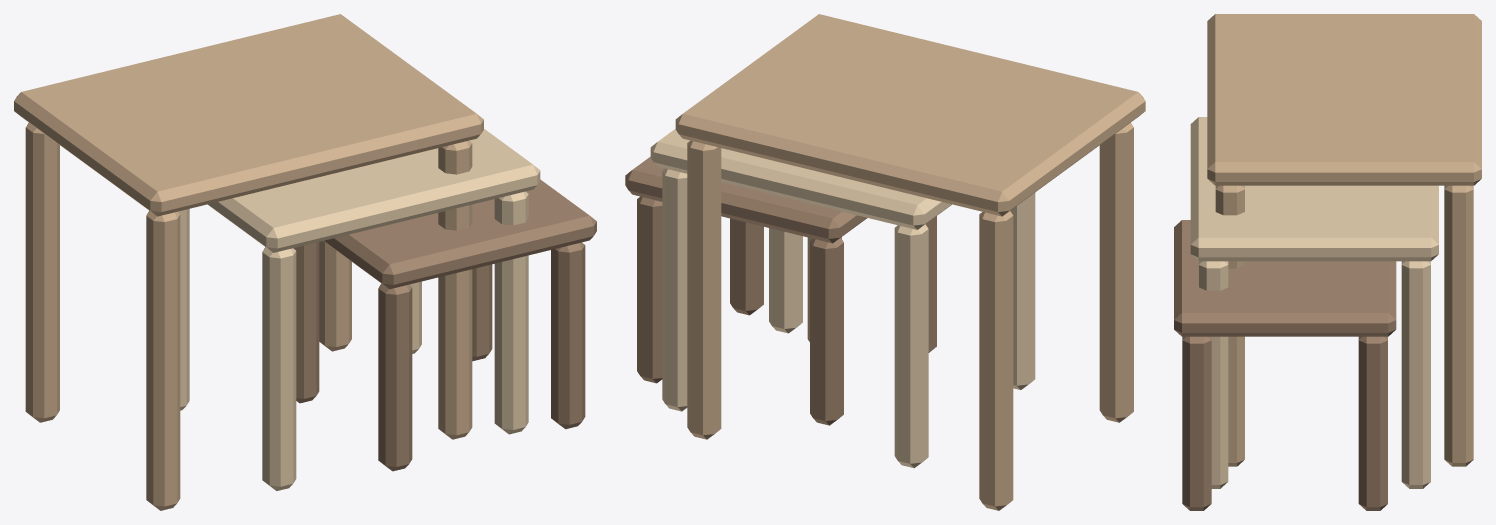
Rendered from NestingTables_Set3.glb.
3 renders of one model, left to right at view 1: azimuth 30°, elevation 25°; view 2: azimuth 150°, elevation 25°; view 3: azimuth 270°, elevation 25°, orthographic. The views are drawn at different scales.
Visible parts, largest first — view 1: SpaceSaver_NestingTables_Set3; view 2: SpaceSaver_NestingTables_Set3; view 3: SpaceSaver_NestingTables_Set3.
Boxes of the visible parts, x1,y1,x2,y2 form: SpaceSaver_NestingTables_Set3: [14, 14, 596, 510]; SpaceSaver_NestingTables_Set3: [625, 14, 1145, 510]; SpaceSaver_NestingTables_Set3: [1174, 14, 1481, 510].
Bounding box in the file's own units: 0.72 × 0.52 × 0.471.
